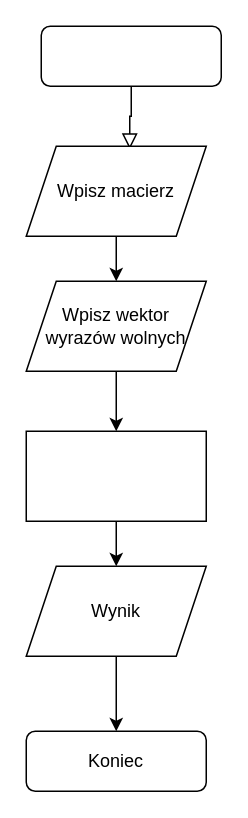
Image size: 248x818. Some labels were removed from this diagram. Here are the shapes that lost their labels. From the top down, the centre of each, then its label:
At (130,55): "START".
At (115,475): "Obliczanie układu równań".
